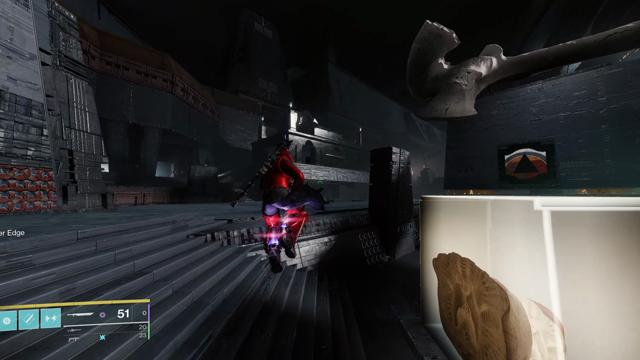pyramid: (504, 148, 547, 179)
